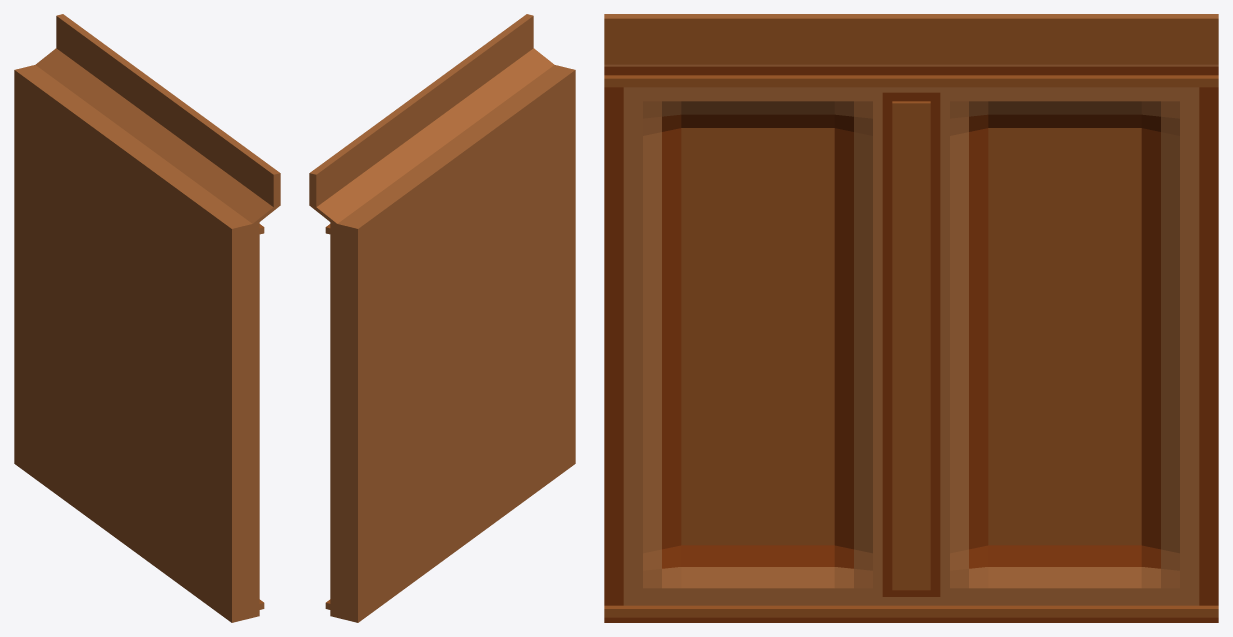
The model's file is elevatorWallThin.fbx.
3 views of the same model, side by side, from view 1: azimuth 30°, elevation 25°; view 2: azimuth 150°, elevation 25°; view 3: azimuth 270°, elevation 25° (orthographic). The views are drawn at different scales.
Parts seen in each view (by area): view 1: Cube; view 2: Cube; view 3: Cube.
Boxes of the visible parts, <box> form: Cube: <box>14,14,280,622</box>; Cube: <box>309,14,575,622</box>; Cube: <box>604,14,1218,622</box>.
Size of the model in its own units: 32.33 by 278 by 250.
